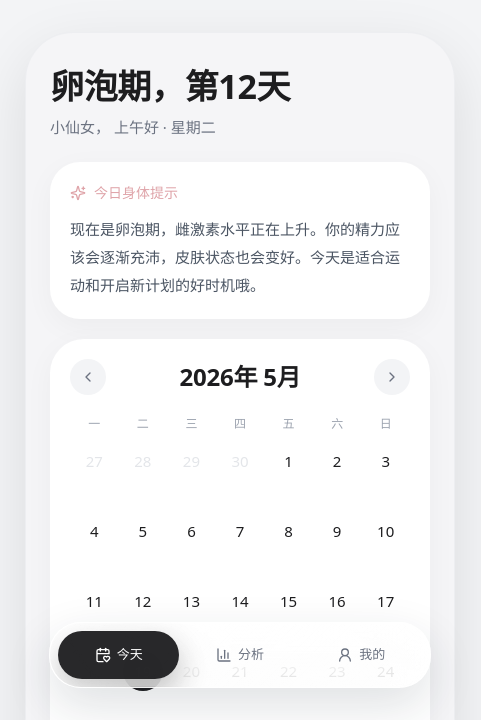
Test: Half Moon app › renders profile data from saved settings
Click the button "我的".
click(361, 655)  # box [301,631,422,679]
(page scrolled)
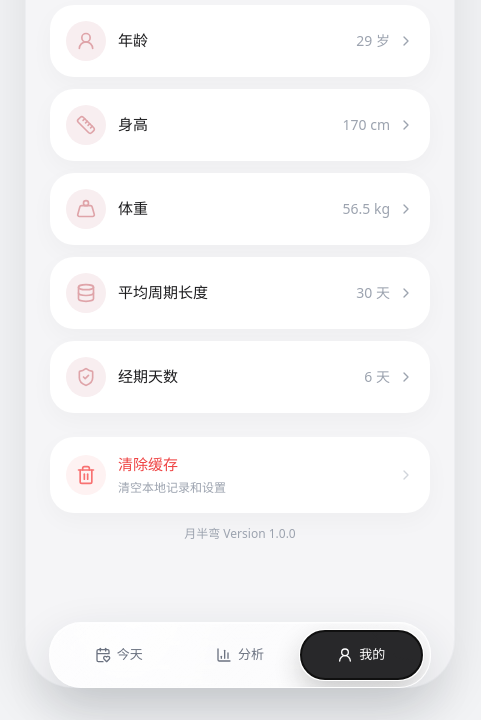
Expected: the text "29 岁" is shown, [356,30,390,51]
Expected: the text "170 cm" is shown, [342,114,390,135]
Expected: the text "56.5 kg" is shown, [342,198,390,219]
